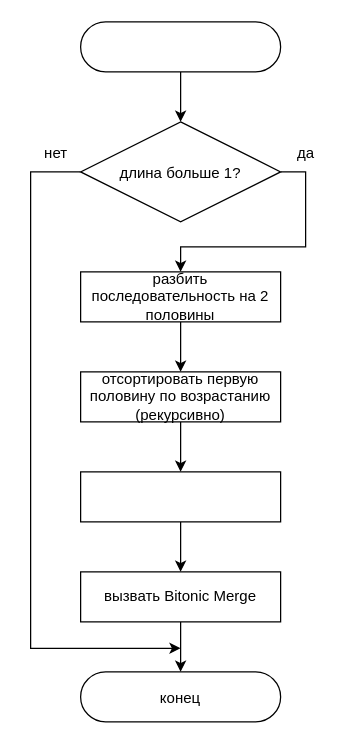
Some shapes in this 353 by 744 pixel diagram are drawn without their labels. The shapes that lost their labels are listed below. From the top down, each one's box as (x1, y1, x2, y2) in pixels, then its label:
(79, 21, 281, 72): начало
(79, 471, 281, 522): отсортировать вторую половину по убыванию (рекурсивно)
